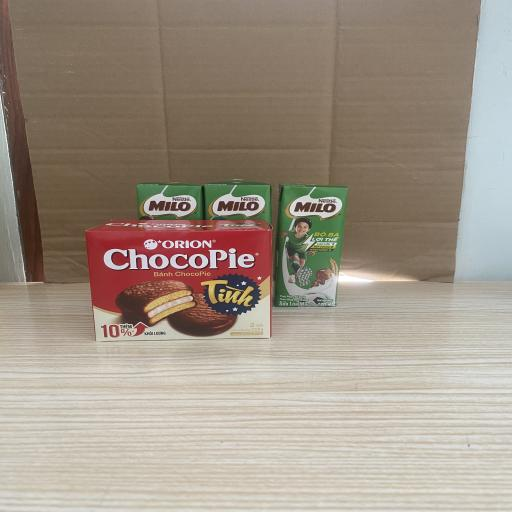chocopie: (87, 220, 270, 346)
milo: (275, 182, 348, 307), (203, 178, 271, 226), (137, 180, 204, 220)
